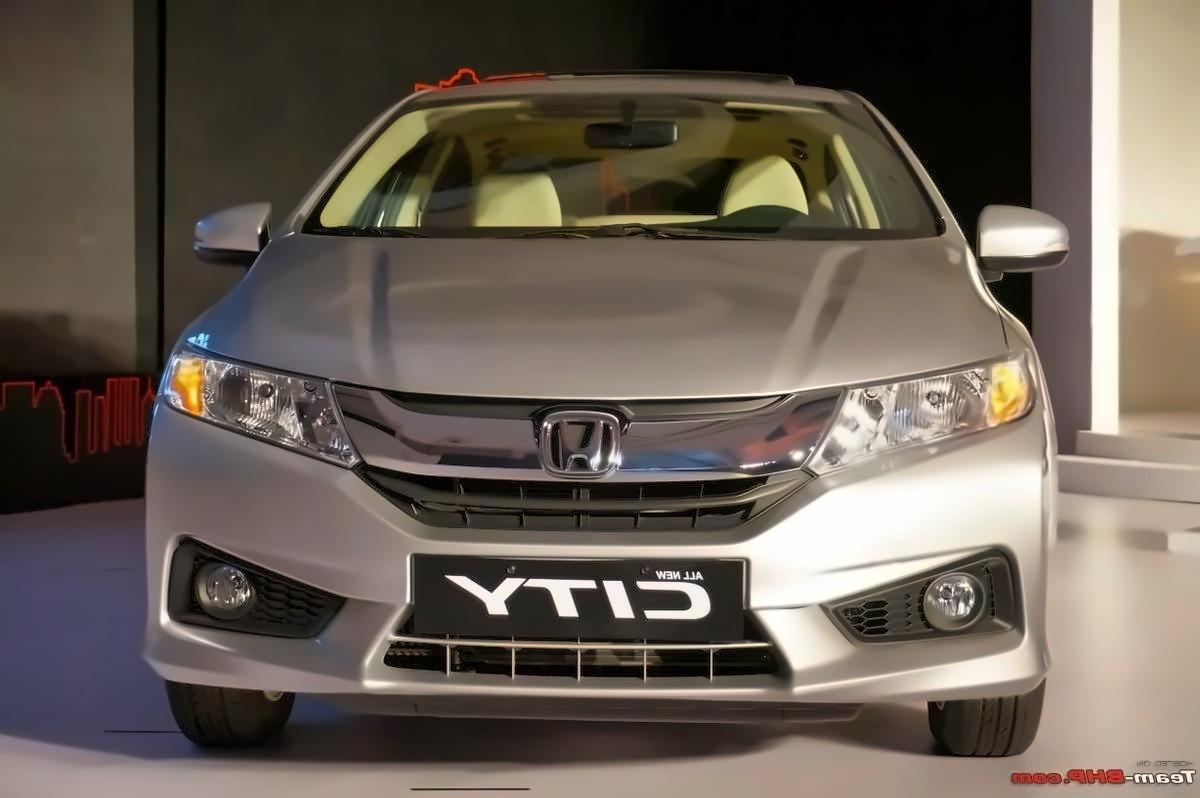Car hood: (176, 228, 1011, 415)
Front bumper: (135, 404, 1062, 714)
Headlight - -L-: (809, 345, 1036, 500)
Headlight - -R-: (155, 340, 359, 475)
Side mirror - -L-: (976, 203, 1079, 279)
Side mirror - -R-: (184, 196, 284, 270)
